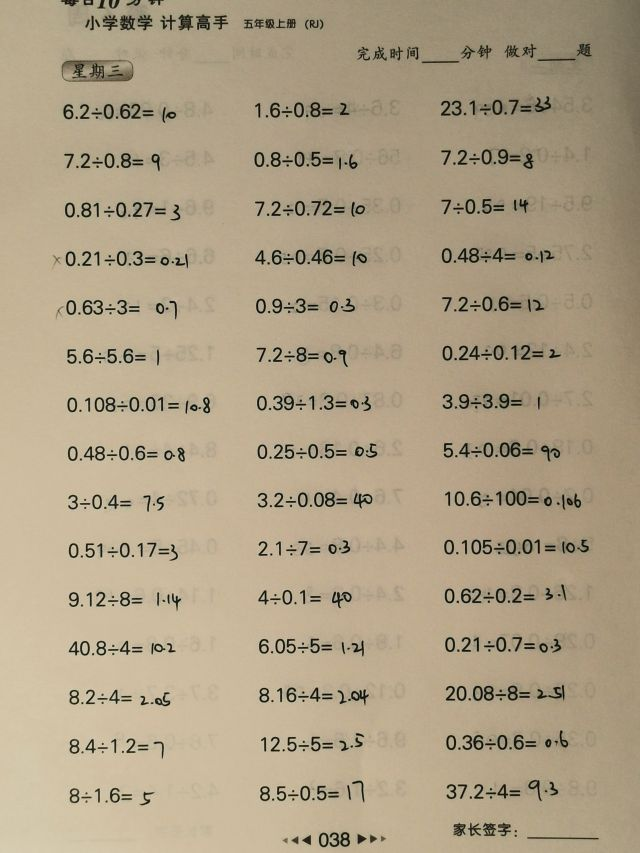equation: (62, 391, 213, 417), (441, 485, 585, 512), (439, 535, 593, 559), (51, 245, 192, 271), (444, 777, 567, 805), (53, 294, 180, 321), (441, 728, 572, 754), (439, 582, 570, 608), (61, 96, 178, 125), (256, 776, 369, 806), (438, 436, 563, 463), (60, 196, 183, 223), (64, 536, 181, 564), (253, 438, 381, 463), (443, 681, 570, 706), (437, 340, 564, 365), (64, 441, 190, 466), (64, 586, 185, 612), (441, 632, 565, 657), (253, 487, 377, 512), (252, 390, 374, 415), (437, 243, 559, 268), (251, 244, 370, 269), (436, 94, 555, 119), (252, 196, 369, 221), (256, 730, 367, 756), (250, 146, 361, 172), (437, 143, 538, 171), (254, 633, 367, 658), (255, 683, 372, 707), (437, 291, 547, 316), (61, 149, 164, 175), (438, 389, 545, 414), (65, 637, 179, 660), (64, 490, 167, 515), (251, 98, 354, 123), (252, 293, 359, 317), (65, 734, 167, 759), (253, 342, 351, 368), (64, 686, 174, 709), (254, 585, 355, 610), (62, 343, 162, 368), (254, 535, 353, 559), (438, 194, 533, 219), (65, 783, 157, 808)
